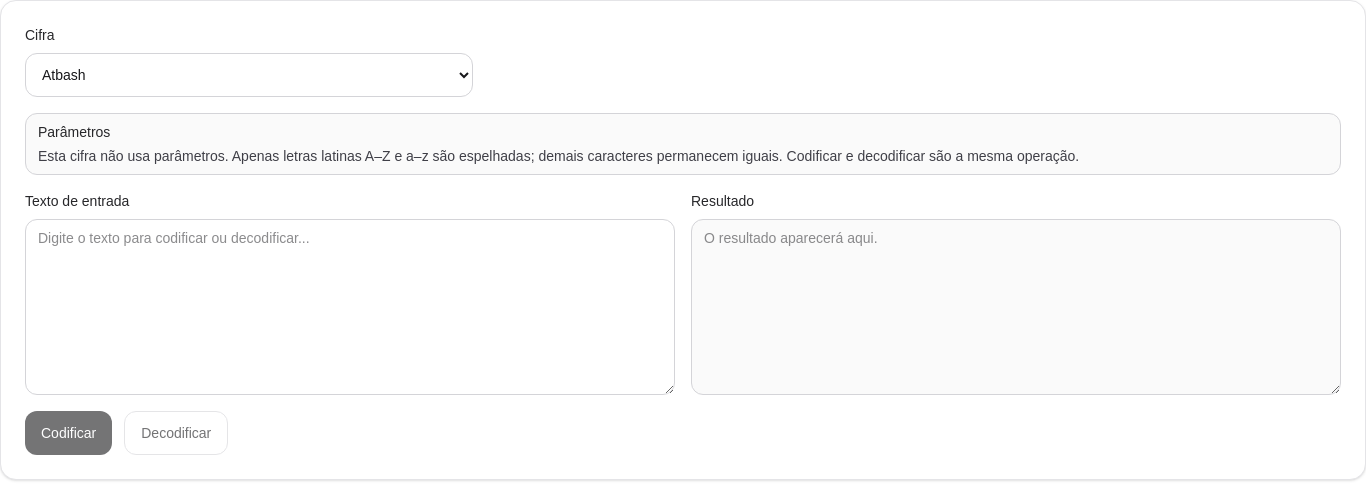
Test case: CipherWorkspace › Decodificar aplica Atbash (mesma operação que codificar)
Step 1. Type "ABC DEF" into the text box labelled "Texto de entrada" → {"x": 350, "y": 307}, box top-left (25, 219), bottom-right (675, 395)
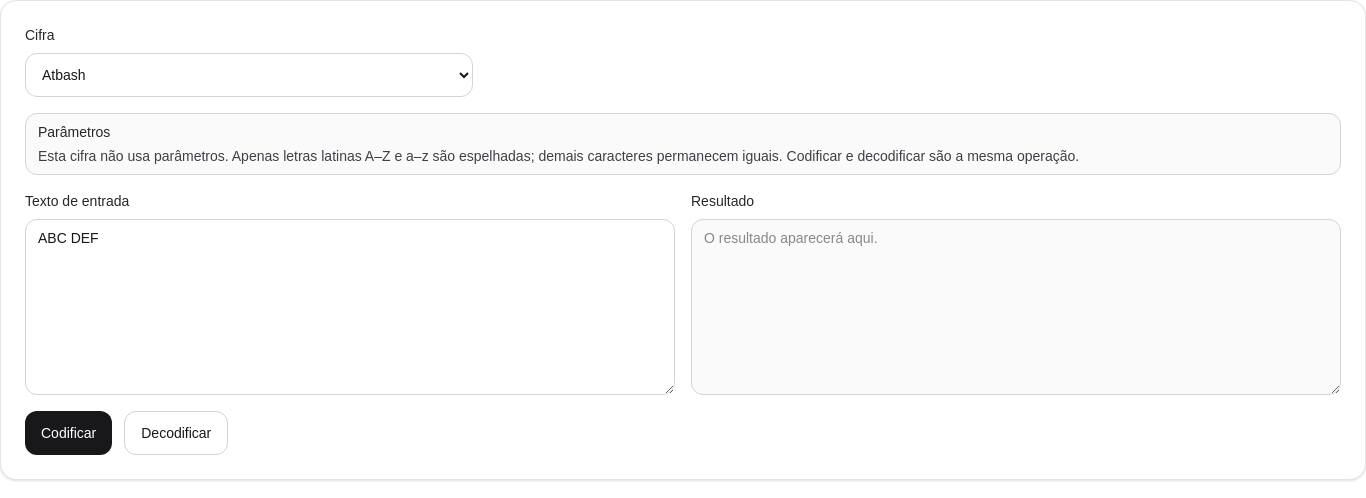
Step 2. Click the button "Decodificar" → {"x": 176, "y": 433}, box top-left (124, 411), bottom-right (228, 455)
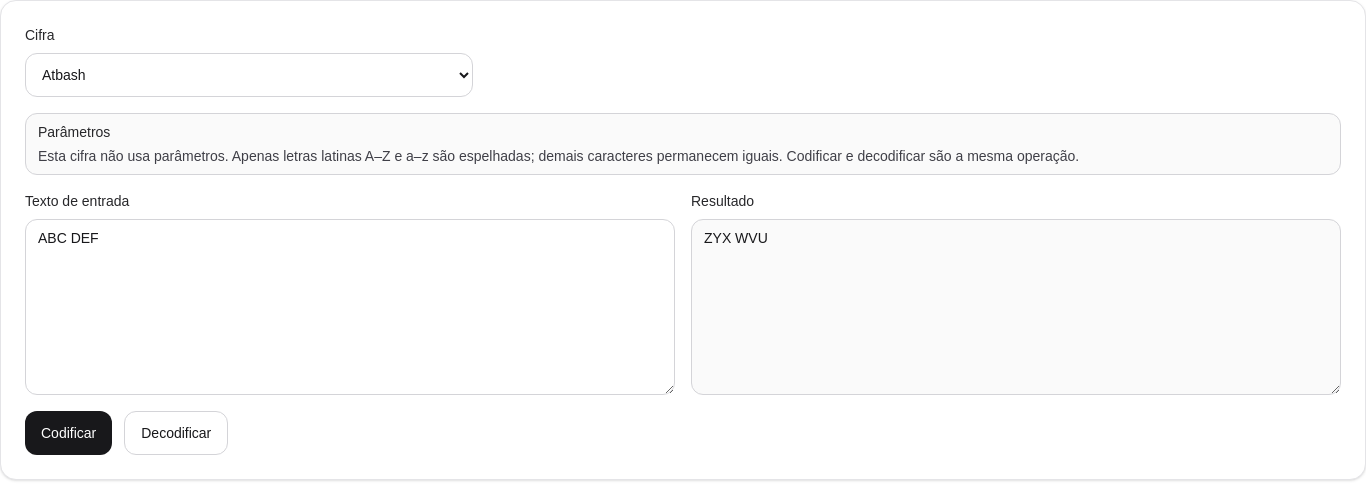
Check: the text box labelled "Resultado" holds "ZYX WVU", box top-left (691, 219), bottom-right (1341, 395)
